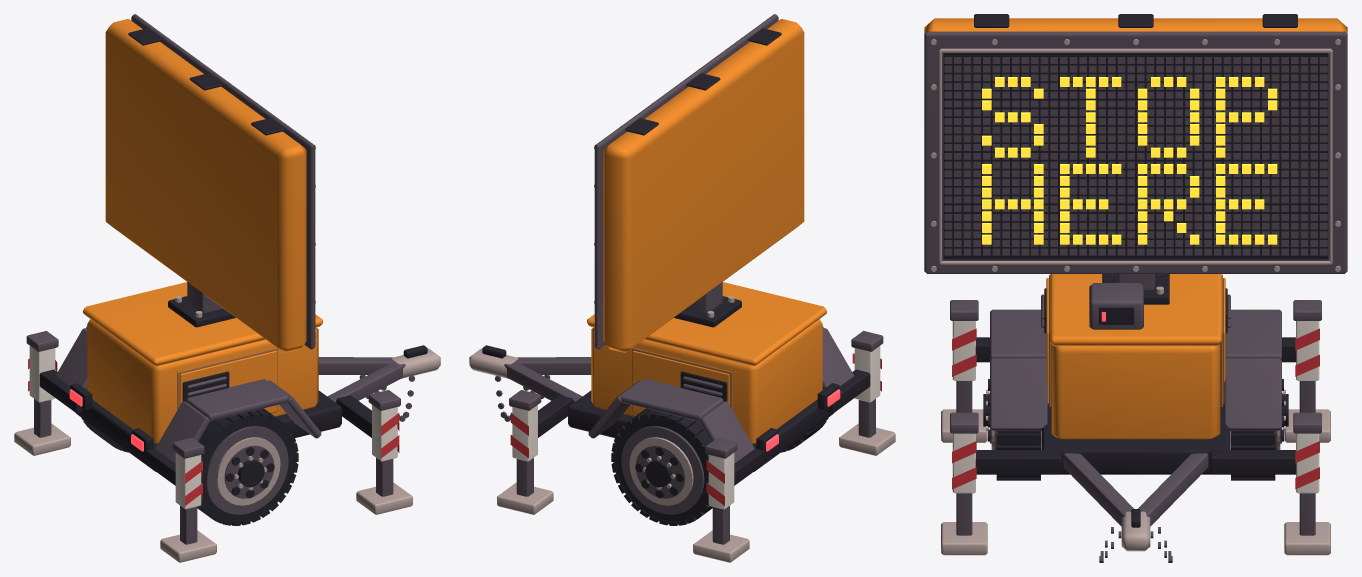
Rendered from prop.stop-here-sign-trailer.glb.
The picture shows the model from 3 angles, left to right: view 1: azimuth 30°, elevation 25°; view 2: azimuth 150°, elevation 25°; view 3: azimuth 270°, elevation 25°; orthographic projection. The views are drawn at different scales.
Visible parts, largest first — view 1: object 2, body; view 2: object 2, body; view 3: object 2, body.
Boxes of the visible parts, x1=… form: object 2: x1=69, y1=14, x2=315, y2=525; body: x1=14, y1=282, x2=440, y2=562; object 2: x1=594, y1=14, x2=840, y2=525; body: x1=469, y1=282, x2=895, y2=562; object 2: x1=924, y1=14, x2=1347, y2=480; body: x1=941, y1=274, x2=1330, y2=562.
Bounding box in the file's own units: 2.88 × 3.2 × 2.64.
